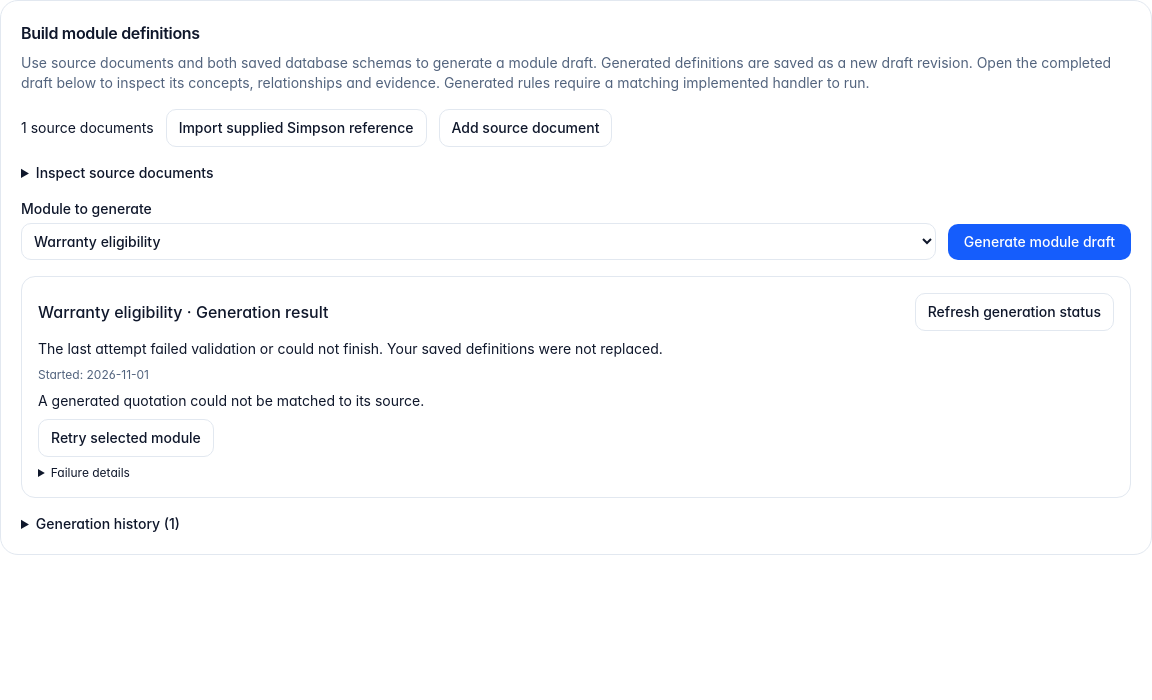
imports and saves sources with visible confirmation and retries a failed selected module explicitly
The width and height of the screenshot is (1152, 700).
Later steps or results of the test are not shown.
Expected: the button "Retry selected module" is shown, x1=38 y1=419 x2=214 y2=457
Click the button "Import supplied Simpson reference" at (296, 128), box x1=166 y1=109 x2=426 y2=147
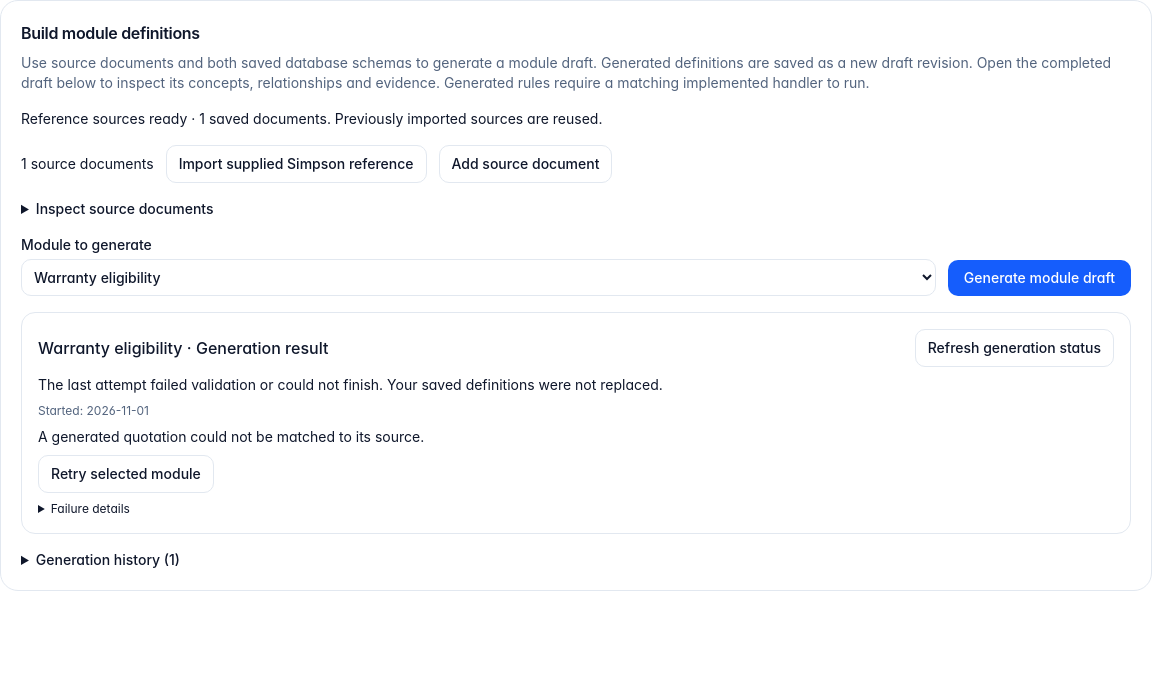
Expected: the text "Reference sources ready" is shown, x1=21 y1=110 x2=602 y2=127
Click the button "Add source document" at (525, 164), box x1=438 y1=145 x2=612 y2=183
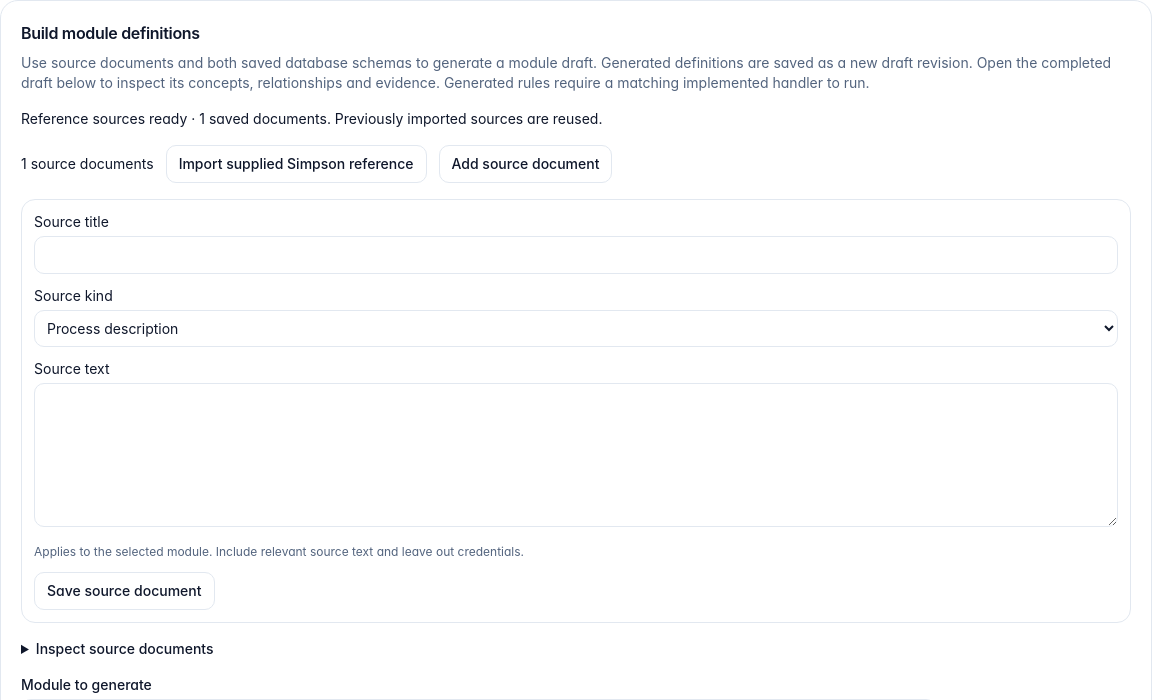
Type "New source" into the field labelled "Source title" at (576, 255), box x1=34 y1=236 x2=1118 y2=274
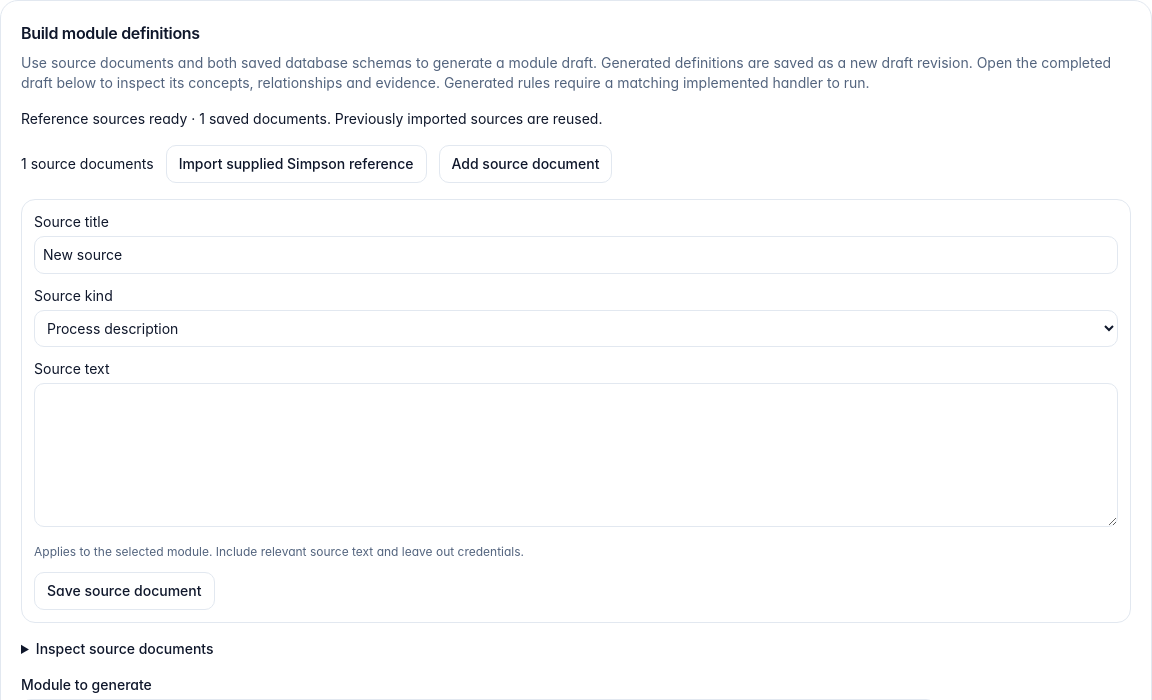
Type "Missing coverage information requires review." into the text box labelled "Source text" at (576, 455), box x1=34 y1=383 x2=1118 y2=527
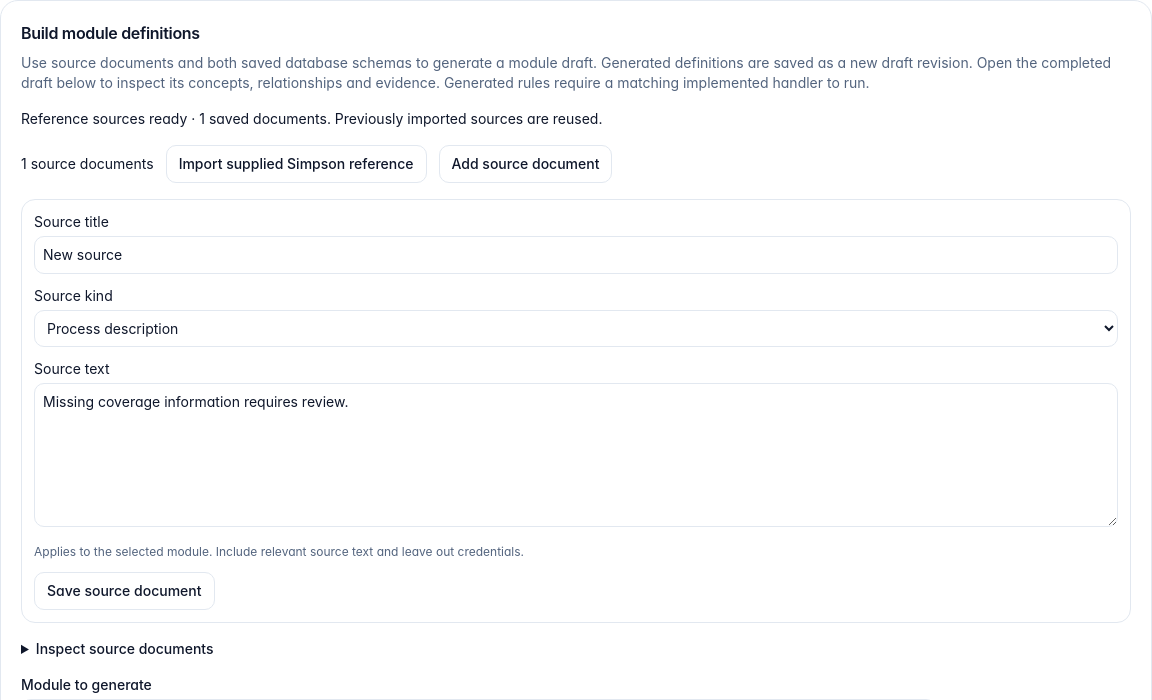
Click the button "Save source document" at (124, 591), box x1=34 y1=572 x2=214 y2=610
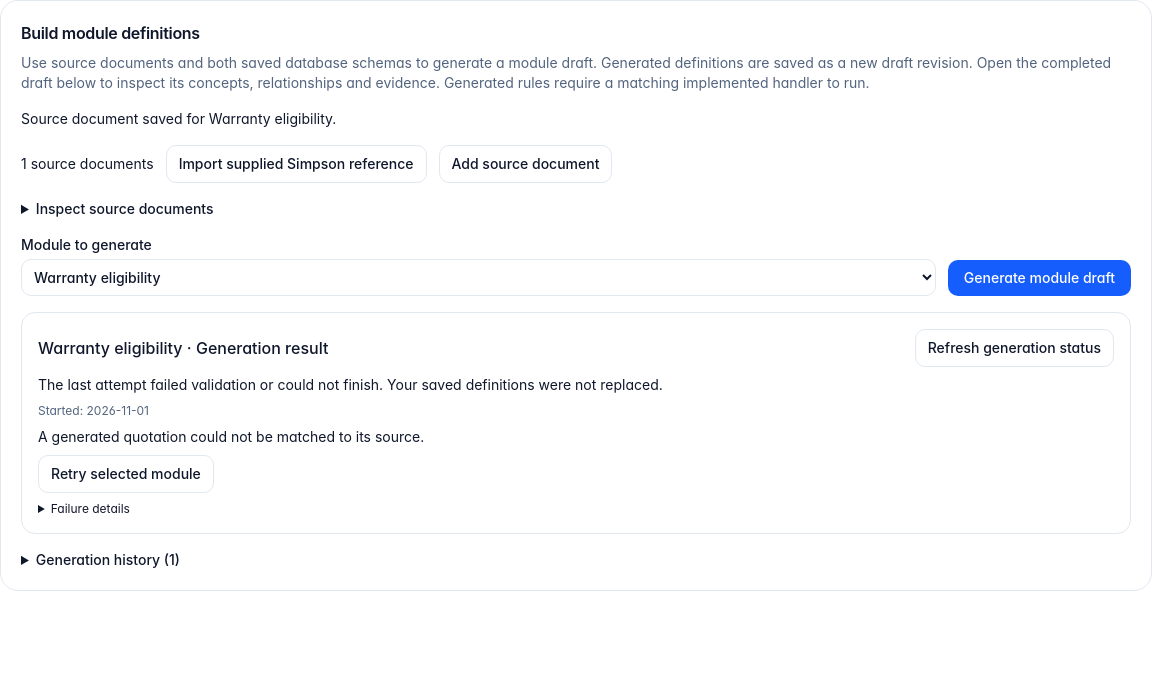
Expected: the text "Source document saved for Warranty eligibility." is shown, x1=21 y1=110 x2=336 y2=127
